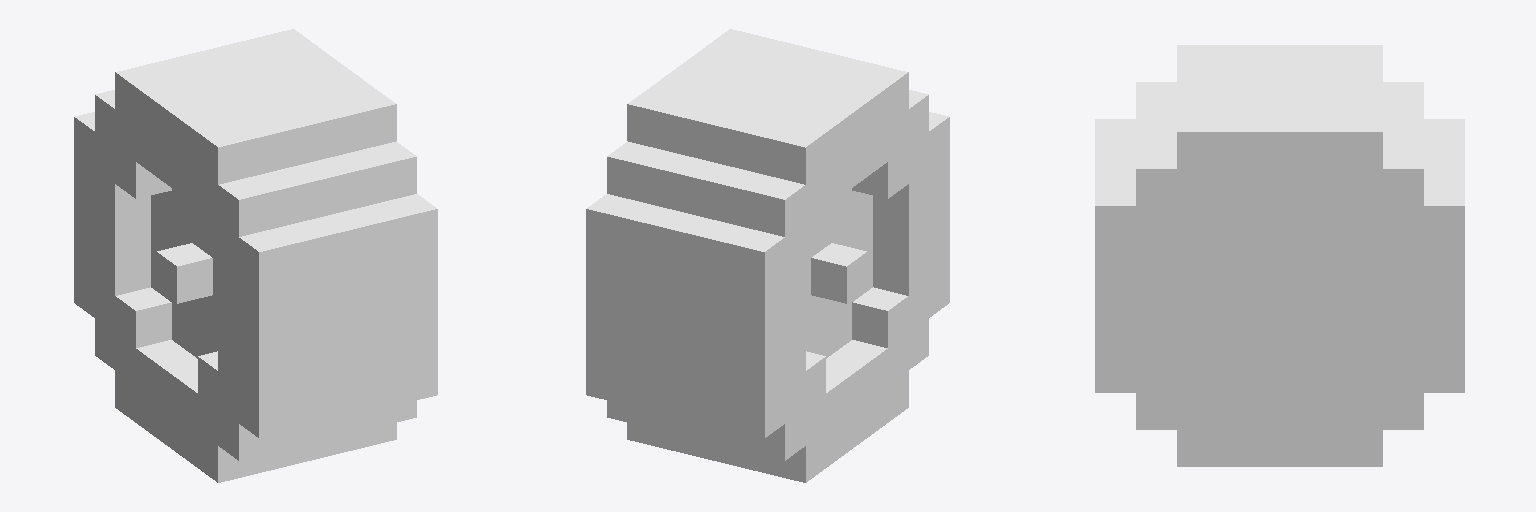
File: TestCar-1.obj
The picture shows the model from 3 angles: view 1: azimuth 30°, elevation 25°; view 2: azimuth 150°, elevation 25°; view 3: azimuth 270°, elevation 25°; orthographic projection.
Visible parts, largest first — view 1: object 1; view 2: object 1; view 3: object 1.
Boxes of the visible parts, box(x1,y1,x2,y2) form: object 1: box(74, 29, 437, 482); object 1: box(586, 29, 949, 482); object 1: box(1095, 45, 1464, 466).
Size of the model in its own units: 0.5 by 0.9 by 0.9.